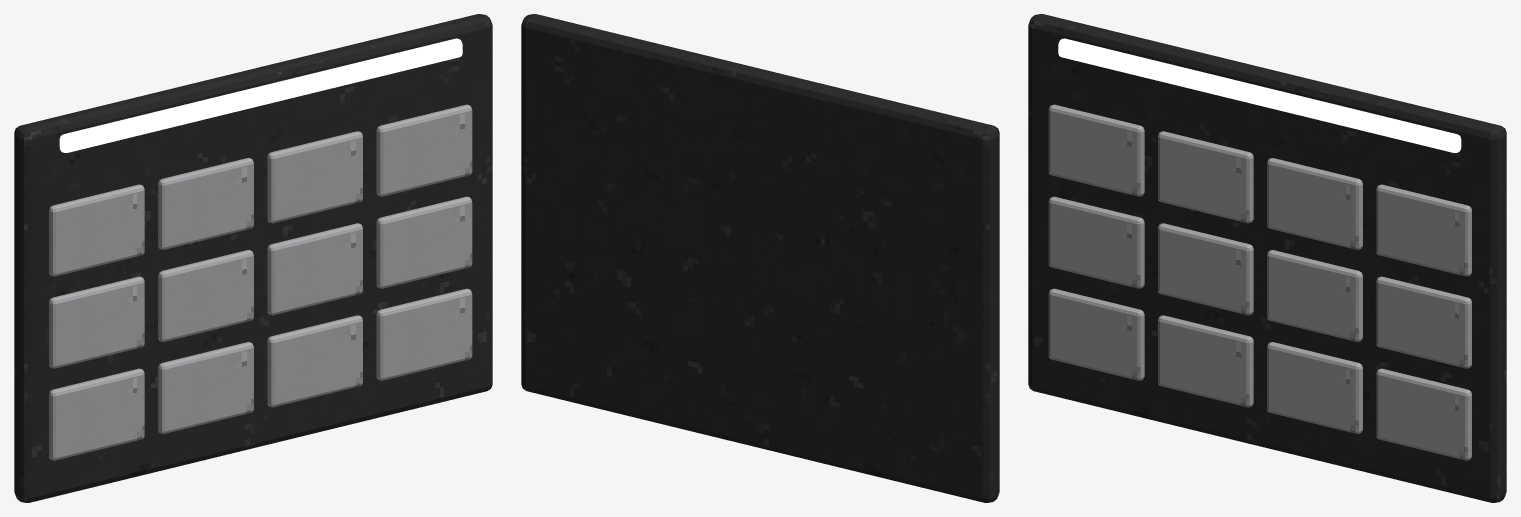
Rendered from decor_chapel_memorial_panel.glb.
3 views of the same model, side by side, from view 1: azimuth 30°, elevation 25°; view 2: azimuth 150°, elevation 25°; view 3: azimuth 330°, elevation 25° (orthographic).
Parts seen in each view (by area): view 1: DECOR_CHAPEL_MEMORIAL_PANEL__Back, DECOR_CHAPEL_MEMORIAL_PANEL__Memorial_Light, DECOR_CHAPEL_MEMORIAL_PANEL__Blank_Plaque_3_4, DECOR_CHAPEL_MEMORIAL_PANEL__Blank_Plaque_1_4, DECOR_CHAPEL_MEMORIAL_PANEL__Blank_Plaque_2_4, DECOR_CHAPEL_MEMORIAL_PANEL__Blank_Plaque_2_1, DECOR_CHAPEL_MEMORIAL_PANEL__Blank_Plaque_1_1, DECOR_CHAPEL_MEMORIAL_PANEL__Blank_Plaque_1_3, DECOR_CHAPEL_MEMORIAL_PANEL__Blank_Plaque_2_3, DECOR_CHAPEL_MEMORIAL_PANEL__Blank_Plaque_3_1, DECOR_CHAPEL_MEMORIAL_PANEL__Blank_Plaque_1_2, DECOR_CHAPEL_MEMORIAL_PANEL__Blank_Plaque_3_2 (+2 smaller); view 2: DECOR_CHAPEL_MEMORIAL_PANEL__Back; view 3: DECOR_CHAPEL_MEMORIAL_PANEL__Back, DECOR_CHAPEL_MEMORIAL_PANEL__Memorial_Light, DECOR_CHAPEL_MEMORIAL_PANEL__Blank_Plaque_3_1, DECOR_CHAPEL_MEMORIAL_PANEL__Blank_Plaque_1_1, DECOR_CHAPEL_MEMORIAL_PANEL__Blank_Plaque_2_1, DECOR_CHAPEL_MEMORIAL_PANEL__Blank_Plaque_2_4, DECOR_CHAPEL_MEMORIAL_PANEL__Blank_Plaque_1_2, DECOR_CHAPEL_MEMORIAL_PANEL__Blank_Plaque_1_4, DECOR_CHAPEL_MEMORIAL_PANEL__Blank_Plaque_2_2, DECOR_CHAPEL_MEMORIAL_PANEL__Blank_Plaque_3_4, DECOR_CHAPEL_MEMORIAL_PANEL__Blank_Plaque_1_3, DECOR_CHAPEL_MEMORIAL_PANEL__Blank_Plaque_3_2 (+2 smaller).
Part boxes in pixels (x1,y1,x2,y2): DECOR_CHAPEL_MEMORIAL_PANEL__Back: [14, 14, 492, 502]; DECOR_CHAPEL_MEMORIAL_PANEL__Memorial_Light: [59, 38, 462, 152]; DECOR_CHAPEL_MEMORIAL_PANEL__Blank_Plaque_3_4: [376, 104, 472, 196]; DECOR_CHAPEL_MEMORIAL_PANEL__Blank_Plaque_1_4: [376, 288, 472, 380]; DECOR_CHAPEL_MEMORIAL_PANEL__Blank_Plaque_2_4: [376, 196, 472, 288]; DECOR_CHAPEL_MEMORIAL_PANEL__Blank_Plaque_2_1: [49, 276, 144, 368]; DECOR_CHAPEL_MEMORIAL_PANEL__Blank_Plaque_1_1: [49, 368, 144, 460]; DECOR_CHAPEL_MEMORIAL_PANEL__Blank_Plaque_1_3: [267, 315, 362, 407]; DECOR_CHAPEL_MEMORIAL_PANEL__Blank_Plaque_2_3: [267, 223, 362, 315]; DECOR_CHAPEL_MEMORIAL_PANEL__Blank_Plaque_3_1: [49, 184, 144, 276]; DECOR_CHAPEL_MEMORIAL_PANEL__Blank_Plaque_1_2: [158, 342, 253, 433]; DECOR_CHAPEL_MEMORIAL_PANEL__Blank_Plaque_3_2: [158, 158, 253, 249]; DECOR_CHAPEL_MEMORIAL_PANEL__Back: [521, 14, 999, 502]; DECOR_CHAPEL_MEMORIAL_PANEL__Back: [1028, 14, 1506, 502]; DECOR_CHAPEL_MEMORIAL_PANEL__Memorial_Light: [1058, 38, 1461, 152]; DECOR_CHAPEL_MEMORIAL_PANEL__Blank_Plaque_3_1: [1048, 104, 1144, 196]; DECOR_CHAPEL_MEMORIAL_PANEL__Blank_Plaque_1_1: [1048, 288, 1144, 380]; DECOR_CHAPEL_MEMORIAL_PANEL__Blank_Plaque_2_1: [1048, 196, 1144, 288]; DECOR_CHAPEL_MEMORIAL_PANEL__Blank_Plaque_2_4: [1376, 276, 1471, 368]; DECOR_CHAPEL_MEMORIAL_PANEL__Blank_Plaque_1_2: [1158, 315, 1253, 407]; DECOR_CHAPEL_MEMORIAL_PANEL__Blank_Plaque_1_4: [1376, 368, 1471, 460]; DECOR_CHAPEL_MEMORIAL_PANEL__Blank_Plaque_2_2: [1158, 223, 1253, 315]; DECOR_CHAPEL_MEMORIAL_PANEL__Blank_Plaque_3_4: [1376, 184, 1471, 276]; DECOR_CHAPEL_MEMORIAL_PANEL__Blank_Plaque_1_3: [1267, 342, 1362, 433]; DECOR_CHAPEL_MEMORIAL_PANEL__Blank_Plaque_3_2: [1158, 131, 1253, 223].
Size of the model in its own units: 1.56 by 1.18 by 0.0955.
Materials: 3 (2 with a texture image).
